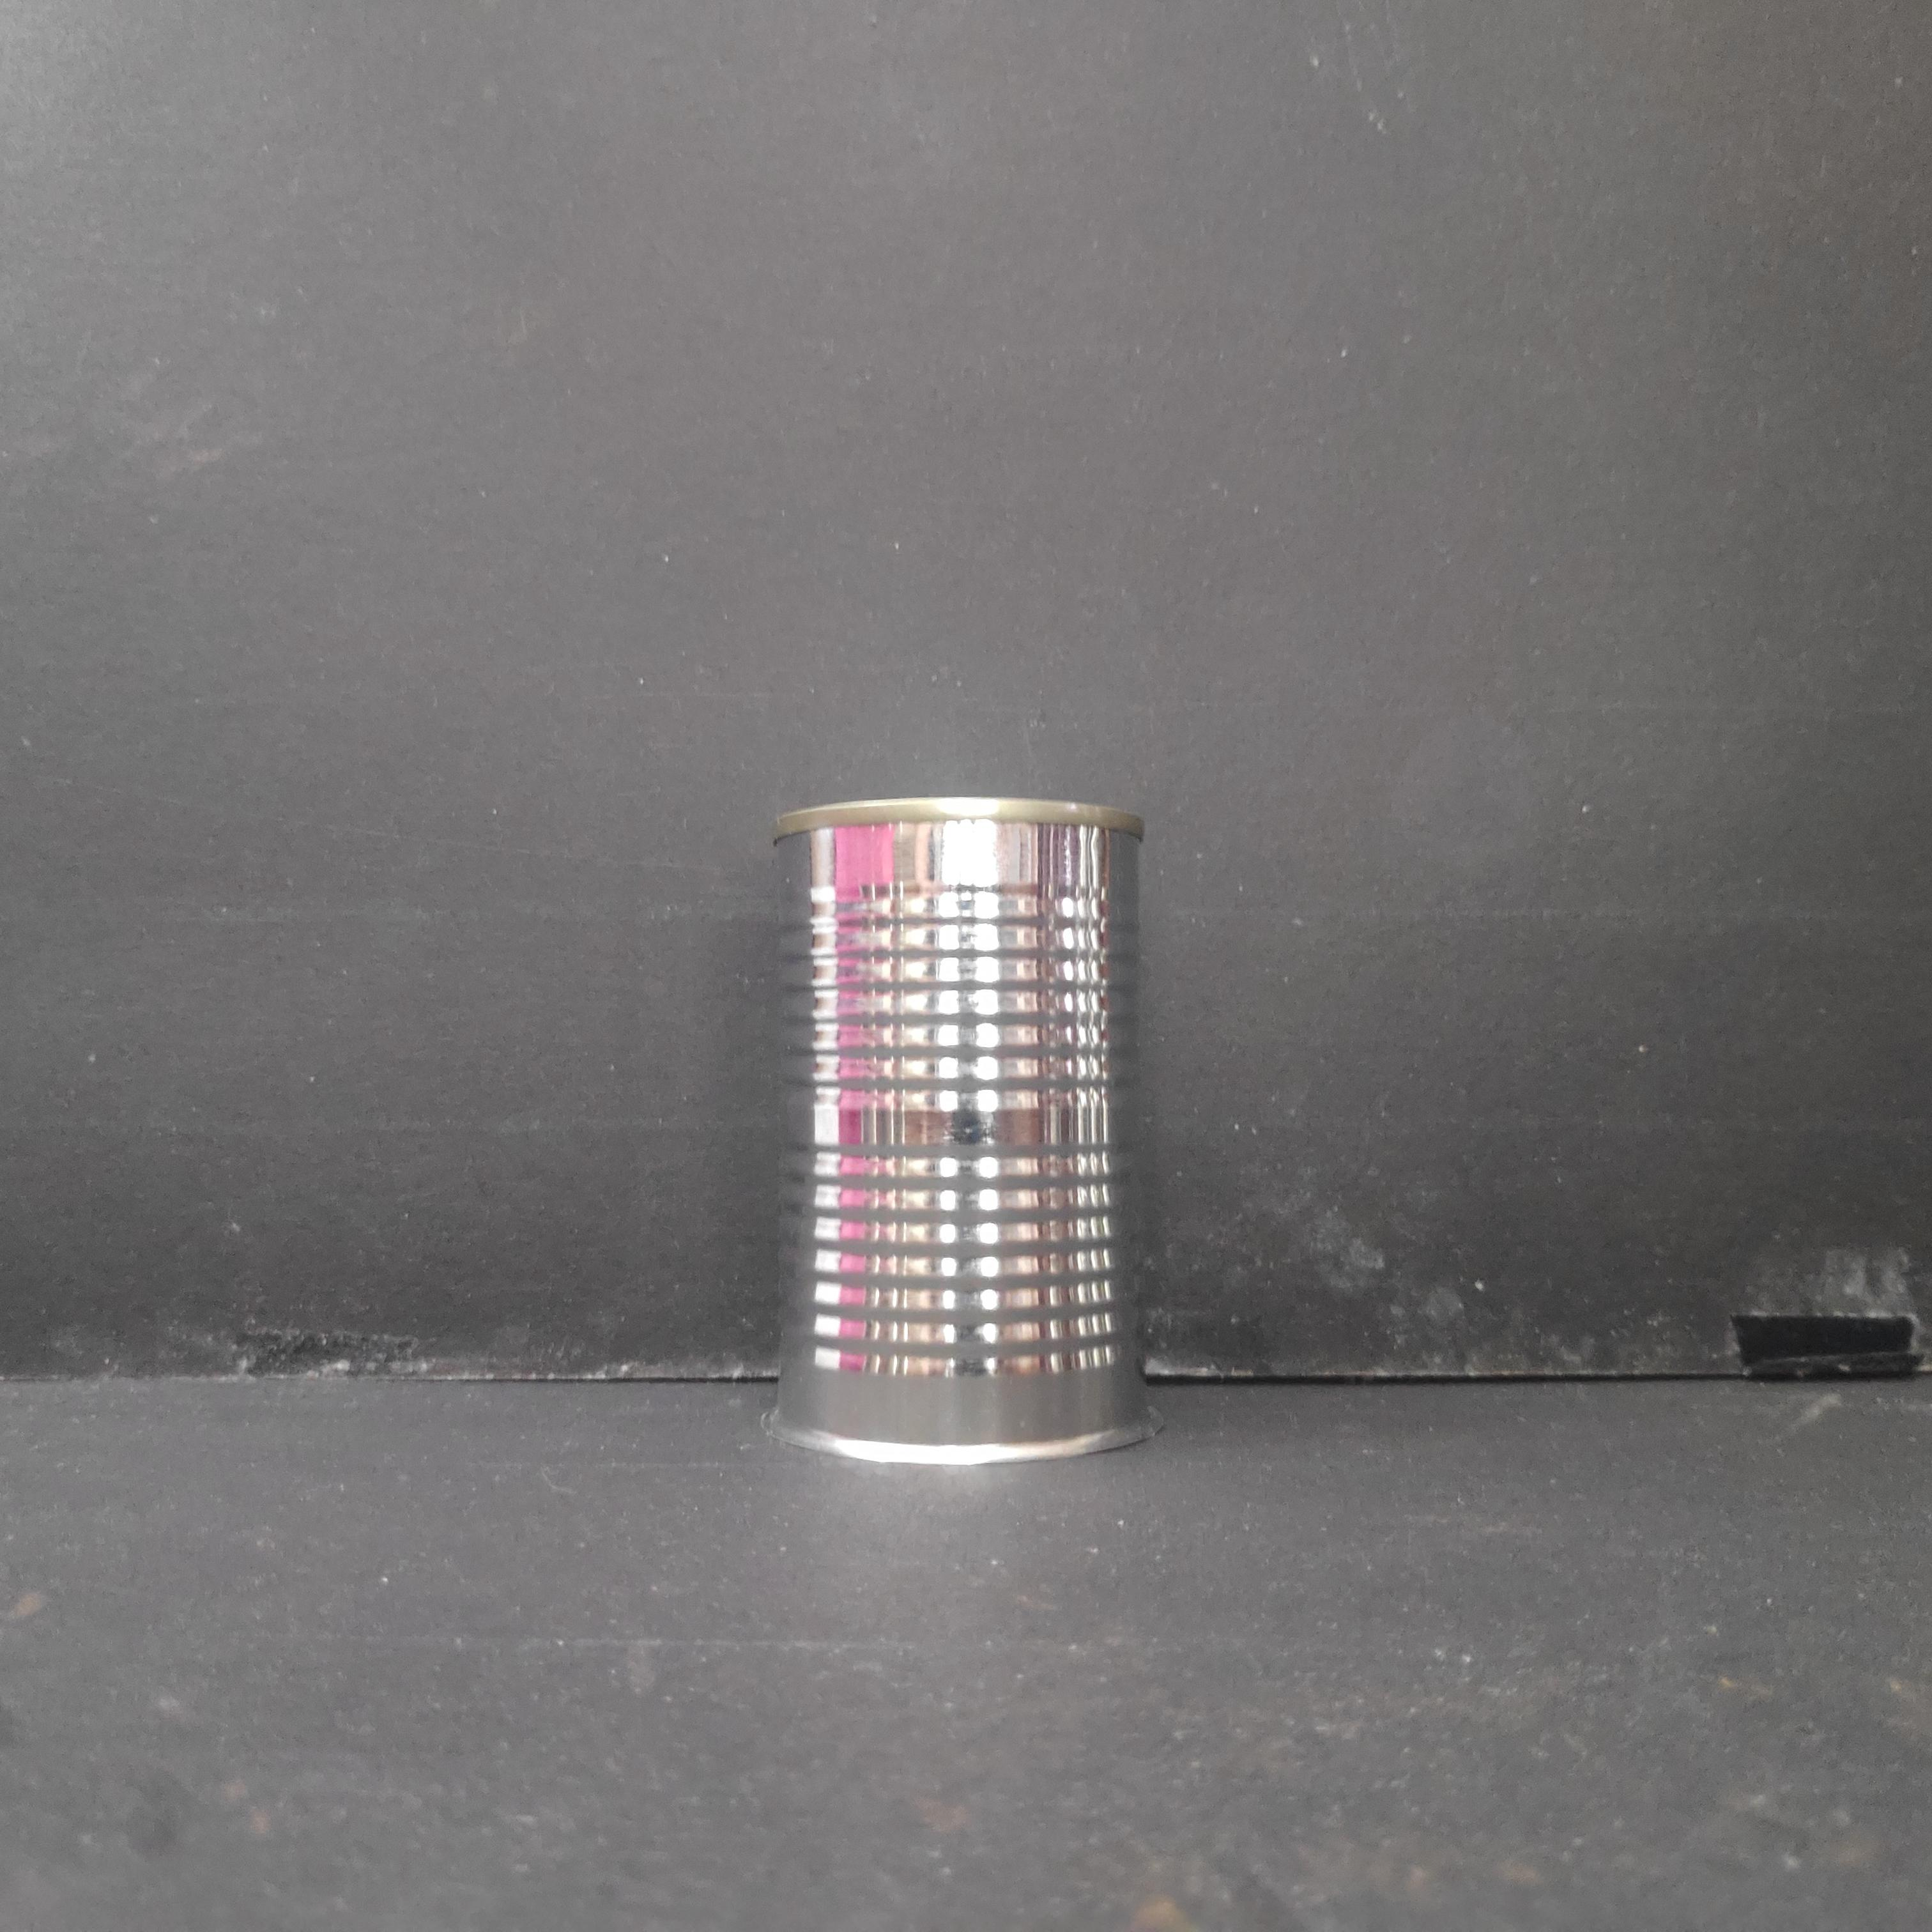No defect: (757, 794, 1168, 1467)
